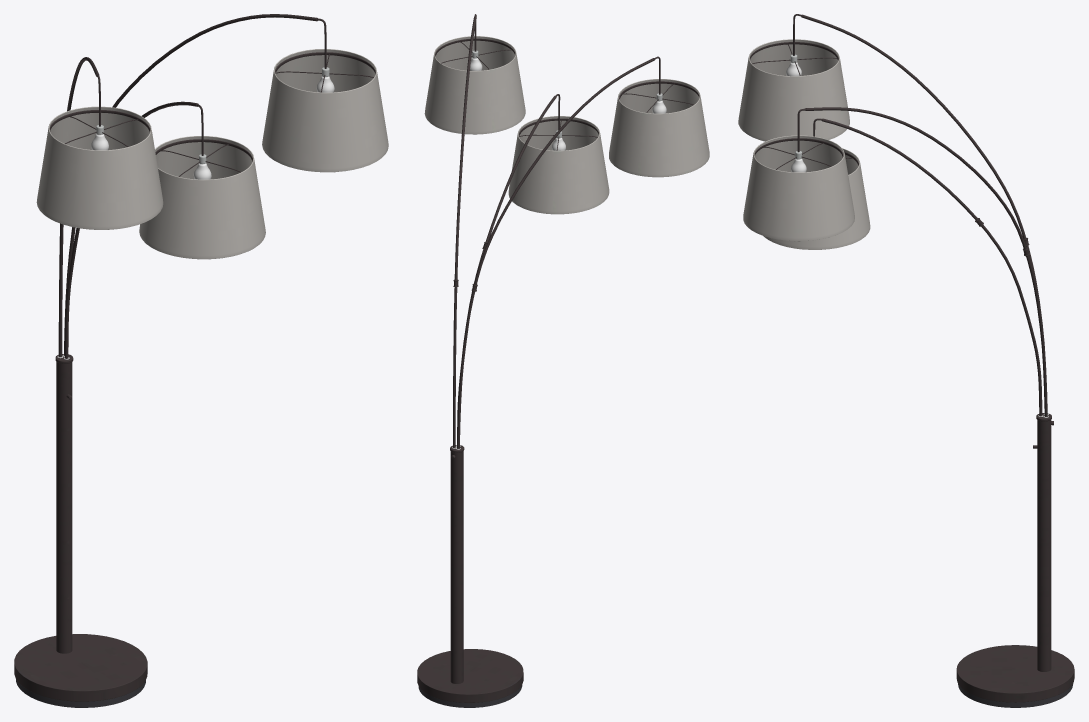
Rendered from abo-B073P25SYK.glb.
The picture shows the model from 3 angles, left to right: view 1: azimuth 30°, elevation 25°; view 2: azimuth 150°, elevation 25°; view 3: azimuth 270°, elevation 25°; orthographic projection. The views are drawn at different scales.
Bounding box in the file's own units: 0.951 × 1.95 × 0.951.
Materials: 1 (1 with a texture image).
